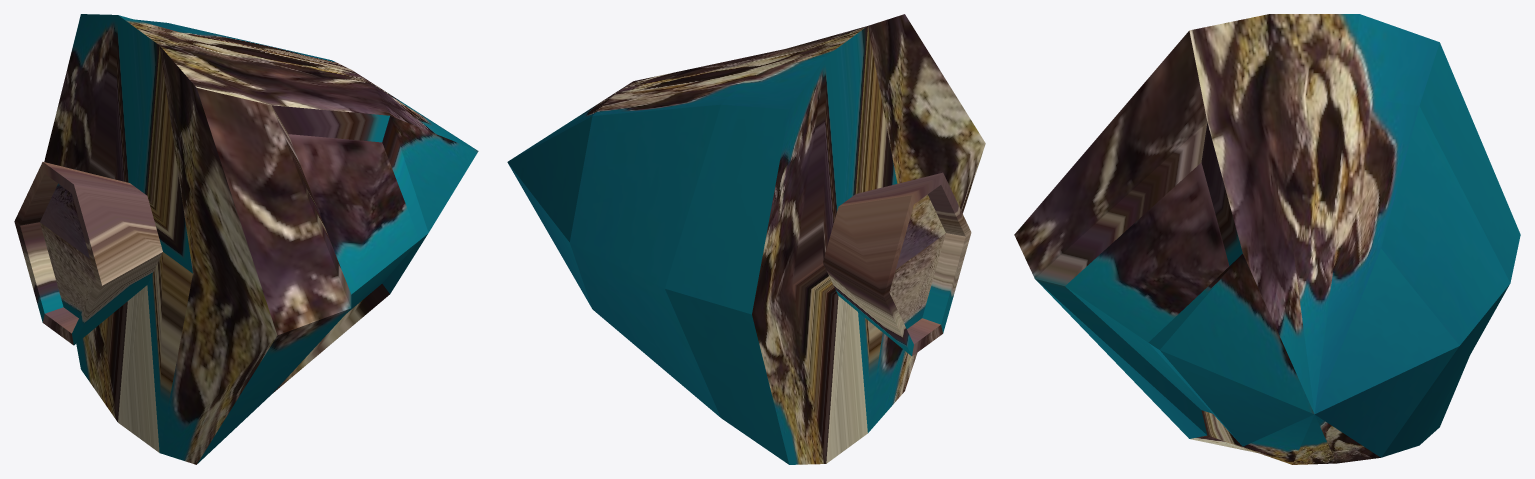
File: spaceship.obj
3 views of the same model, side by side, from view 1: azimuth 30°, elevation 25°; view 2: azimuth 150°, elevation 25°; view 3: azimuth 270°, elevation 25° (orthographic). The views are drawn at different scales.
Visible parts, largest first — view 1: spaceship; view 2: spaceship; view 3: spaceship.
Part boxes in pixels (x1,y1,x2,y2): spaceship: [14, 14, 478, 464]; spaceship: [507, 14, 985, 464]; spaceship: [1014, 14, 1520, 464].
Bounding box in the file's own units: 1.02 × 0.9465 × 0.984.
